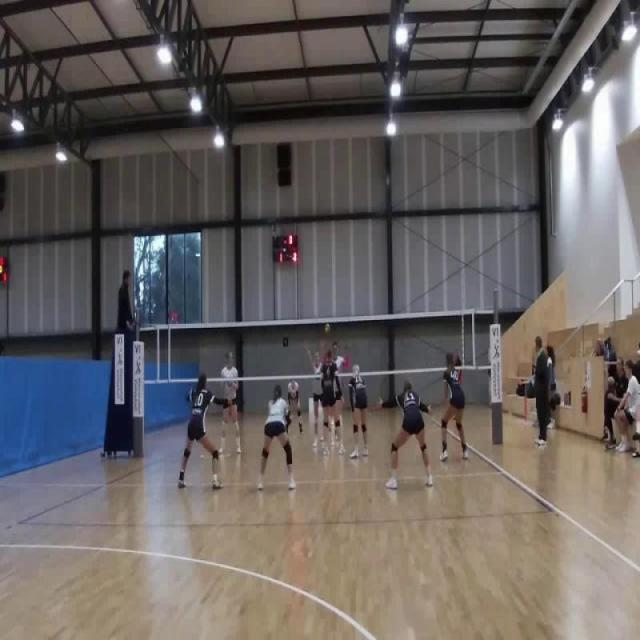volleyball: (324, 323, 332, 335)
